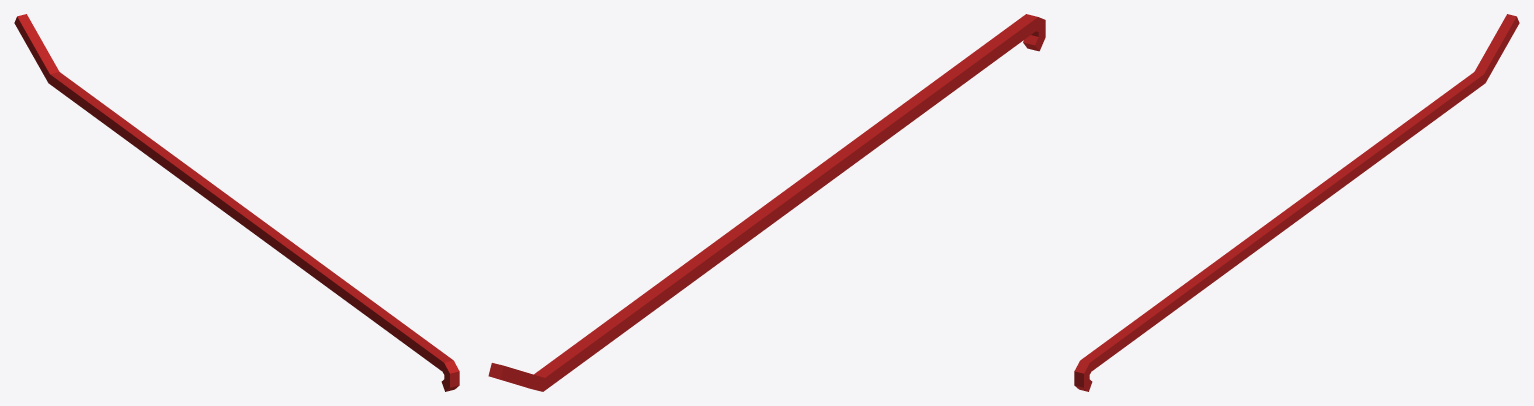
File: original-87.obj
3 renders of one model, left to right at view 1: azimuth 30°, elevation 25°; view 2: azimuth 150°, elevation 25°; view 3: azimuth 330°, elevation 25°, orthographic. The views are drawn at different scales.
Visible parts, largest first — view 1: mesh102/mesh102-geometry#mesh102-geometry; view 2: mesh102/mesh102-geometry#mesh102-geometry; view 3: mesh102/mesh102-geometry#mesh102-geometry.
Boxes of the visible parts, bbox=[...] form: mesh102/mesh102-geometry#mesh102-geometry: bbox=[14, 14, 459, 391]; mesh102/mesh102-geometry#mesh102-geometry: bbox=[488, 14, 1045, 391]; mesh102/mesh102-geometry#mesh102-geometry: bbox=[1074, 14, 1519, 391].
Size of the model in its own units: 0.0083 by 0.0512 by 0.6491.
